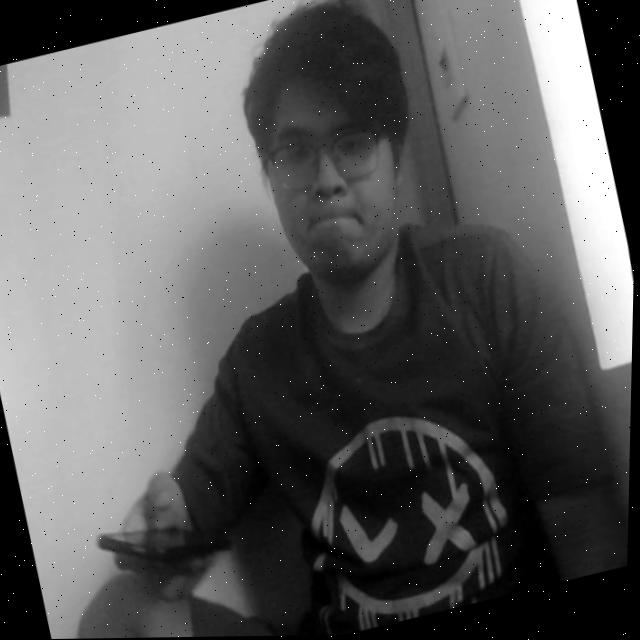phone: (77, 490, 217, 609)
